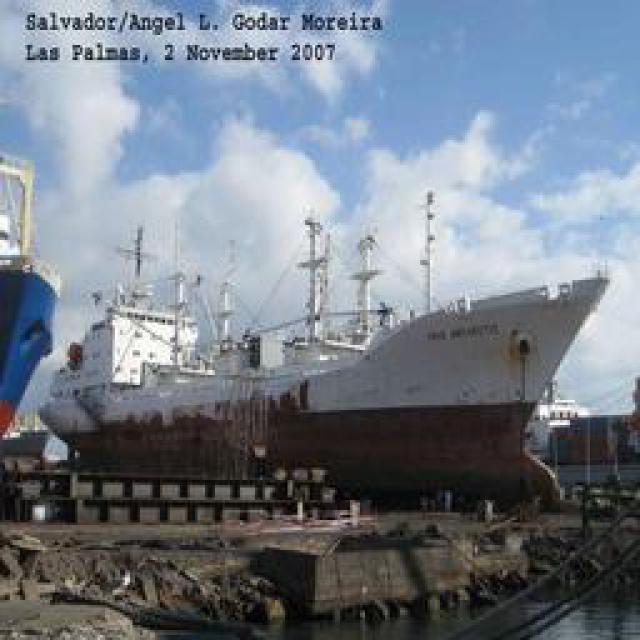Ship: (47, 238, 615, 503)
